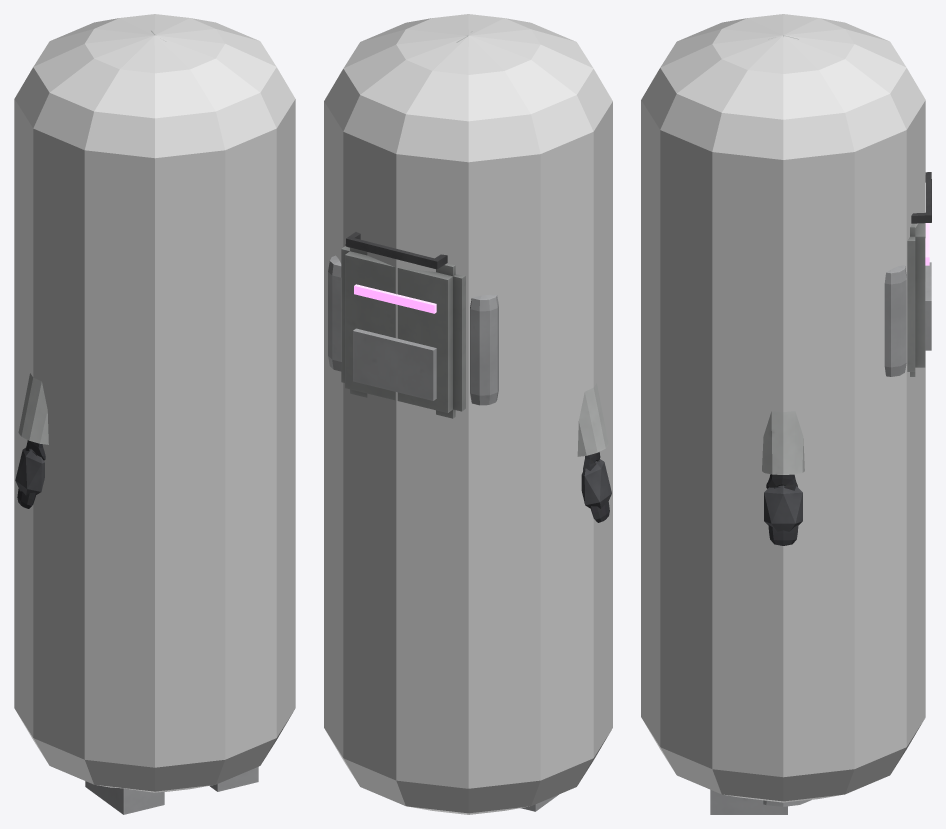
The model's file is agent_suit.glb.
The picture shows the model from 3 angles, left to right: view 1: azimuth 30°, elevation 25°; view 2: azimuth 150°, elevation 25°; view 3: azimuth 270°, elevation 25°; orthographic projection. The views are drawn at different scales.
Visible parts, largest first — view 1: agent_suit_col, agent_suit; view 2: agent_suit_col, agent_suit; view 3: agent_suit_col, agent_suit.
Boxes of the visible parts, bbox=[...] form: agent_suit_col: bbox=[14, 14, 295, 792]; agent_suit: bbox=[15, 30, 258, 814]; agent_suit_col: bbox=[324, 14, 612, 814]; agent_suit: bbox=[328, 31, 611, 811]; agent_suit_col: bbox=[641, 14, 925, 802]; agent_suit: bbox=[710, 35, 931, 814].
Bounding box in the file's own units: 0.6842 × 1.8 × 0.6349.
Materials: 3 (3 with a texture image).
